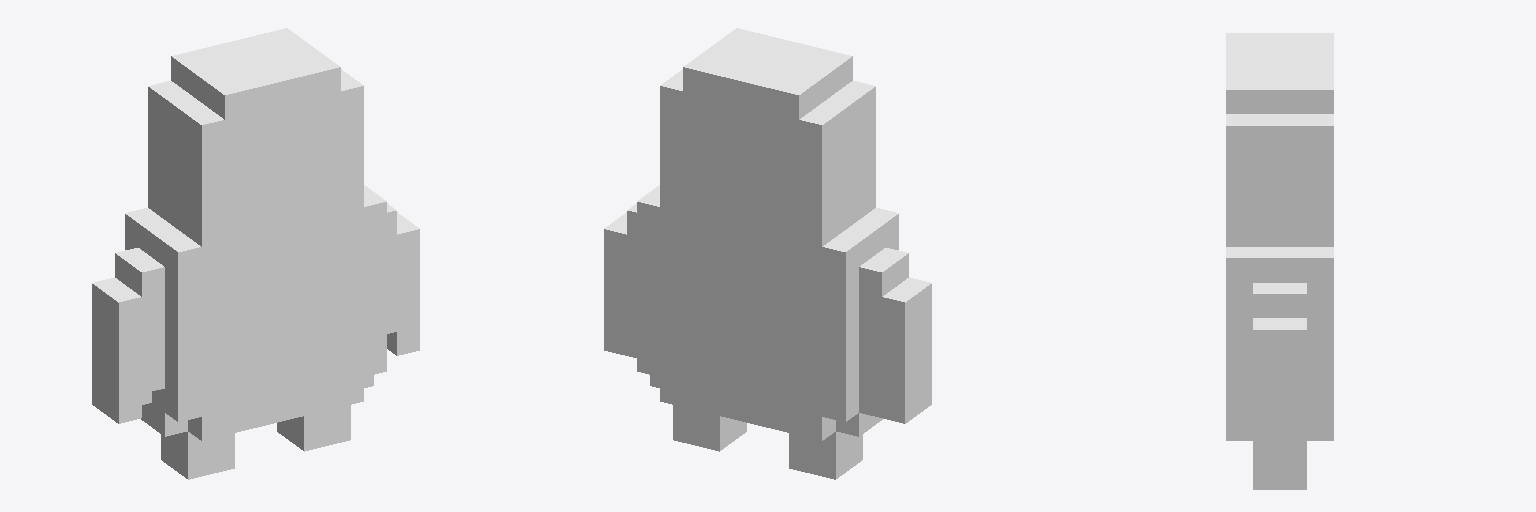
File: mini.obj
3 renders of one model, left to right at view 1: azimuth 30°, elevation 25°; view 2: azimuth 150°, elevation 25°; view 3: azimuth 270°, elevation 25°, orthographic.
Parts seen in each view (by area): view 1: object 1; view 2: object 1; view 3: object 1.
Part boxes in pixels (x1,y1,x2,y2): object 1: (92, 28, 419, 479); object 1: (604, 28, 931, 479); object 1: (1226, 33, 1333, 489).
Size of the model in its own units: 1.3 by 1.6 by 0.4.